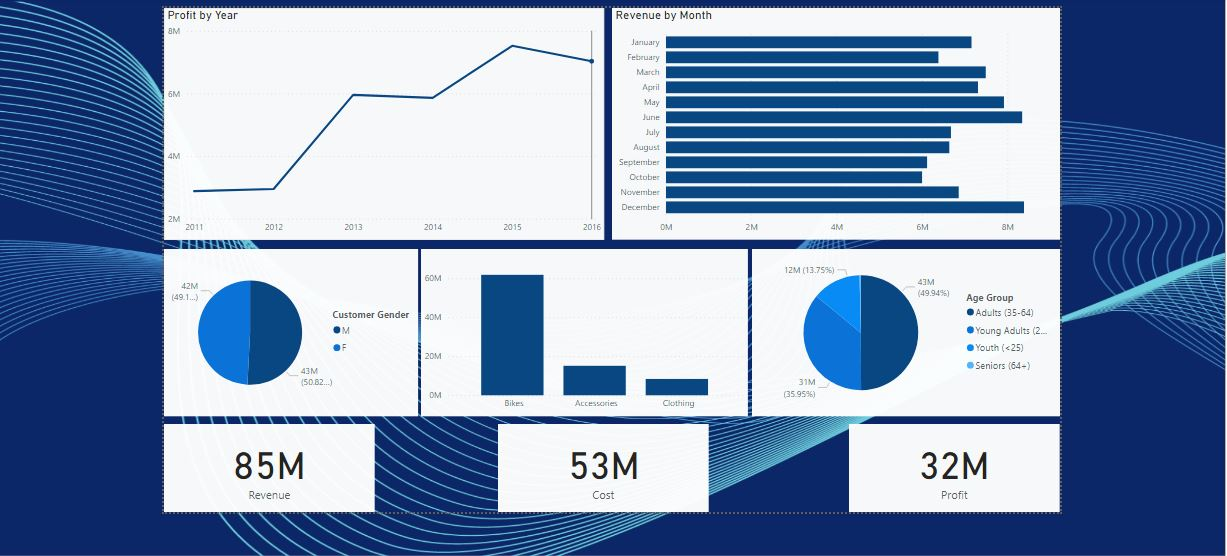

Layout of this report page (visuals, bound fields, positions):
{"tool":"powerbi","page":{"name":"Page 1","canvas":[1280,720],"ordinal":0},"visuals":[{"type":"lineChart","fields":{"Category":["Sales.Year"],"Y":["Sum(Sales.Profit)"]},"box":[0,0,628.6,331.4],"z":0},{"type":"clusteredBarChart","fields":{"Category":["Sales.Date.Variation.Date Hierarchy.Year","Sales.Date.Variation.Date Hierarchy.Month"],"Y":["Sum(Sales.Revenue)"]},"box":[640,0,640,331.4],"z":1000},{"type":"pieChart","fields":{"Y":["Sum(Sales.Revenue)"],"Category":["Sales.Age Group"]},"box":[840,344.3,440,238.6],"z":2000},{"type":"card","fields":{"Values":["Sum(Sales.Revenue)"]},"box":[0,594.3,301.4,125.7],"z":3000},{"type":"card","fields":{"Values":["Sum(Sales.Cost)"]},"box":[477.1,594.3,301.4,125.7],"z":4000},{"type":"card","fields":{"Values":["Sum(Sales.Profit)"]},"box":[978.6,594.3,301.4,125.7],"z":5000},{"type":"pieChart","fields":{"Category":["Sales.Customer Gender"],"Y":["Sum(Sales.Revenue)"]},"box":[0,344.3,362.9,238.6],"z":6000},{"type":"clusteredColumnChart","fields":{"Category":["Sales.Product Category"],"Y":["Sum(Sales.Revenue)"]},"box":[367.1,344.3,467.1,238.6],"z":6001}]}

Visuals, with their boxes on the page's 1280x720 design canvas (x1, y1, x2, y2). These are canvas units, not pixel positions in the 1227x556 screenshot, which may show the page scaled, cropped or inside an application window:
lineChart - Sales.Year x Sum(Sales.Profit): [x1=0, y1=0, x2=629, y2=331]
clusteredBarChart - Sales.Date.Variation.Date Hierarchy.Year x Sales.Date.Variation.Date Hierarchy.Month: [x1=640, y1=0, x2=1280, y2=331]
pieChart - Sum(Sales.Revenue) x Sales.Age Group: [x1=840, y1=344, x2=1280, y2=583]
card - Sum(Sales.Revenue): [x1=0, y1=594, x2=301, y2=720]
card - Sum(Sales.Cost): [x1=477, y1=594, x2=778, y2=720]
card - Sum(Sales.Profit): [x1=979, y1=594, x2=1280, y2=720]
pieChart - Sales.Customer Gender x Sum(Sales.Revenue): [x1=0, y1=344, x2=363, y2=583]
clusteredColumnChart - Sales.Product Category x Sum(Sales.Revenue): [x1=367, y1=344, x2=834, y2=583]
